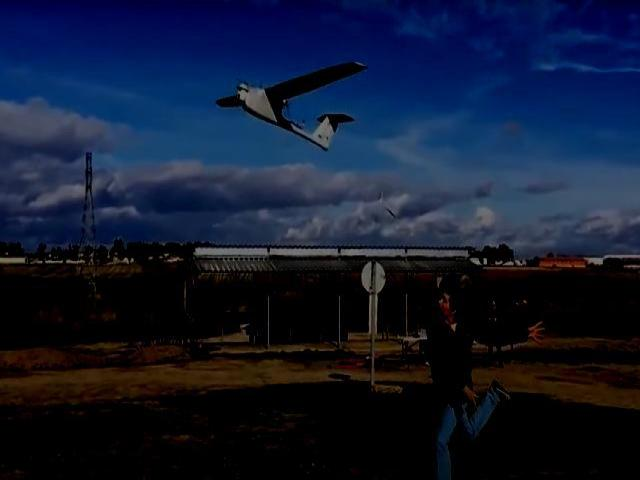iha: (216, 64, 365, 153)
